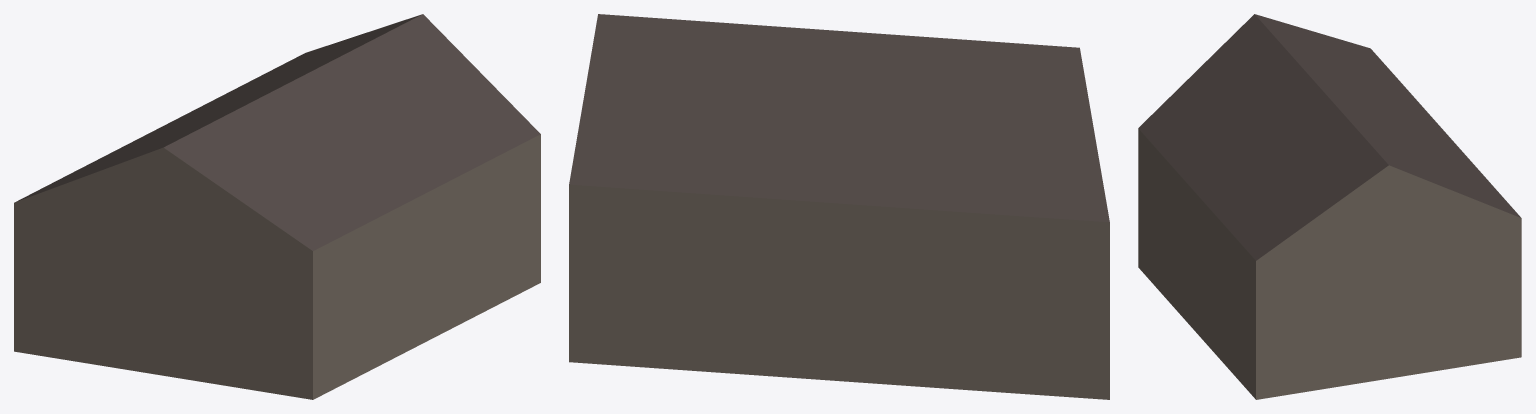
3 renders of one model, left to right at view 1: azimuth 30°, elevation 25°; view 2: azimuth 150°, elevation 25°; view 3: azimuth 270°, elevation 25°, orthographic. The views are drawn at different scales.
Parts seen in each view (by area): view 1: HP-w1198840853; view 2: HP-w1198840853; view 3: HP-w1198840853.
Boxes of the visible parts, x1,y1,x2,y2 form: HP-w1198840853: [14, 14, 540, 399]; HP-w1198840853: [569, 14, 1109, 399]; HP-w1198840853: [1138, 14, 1521, 399].
Bounding box in the file's own units: 19.66 × 9.21 × 15.
